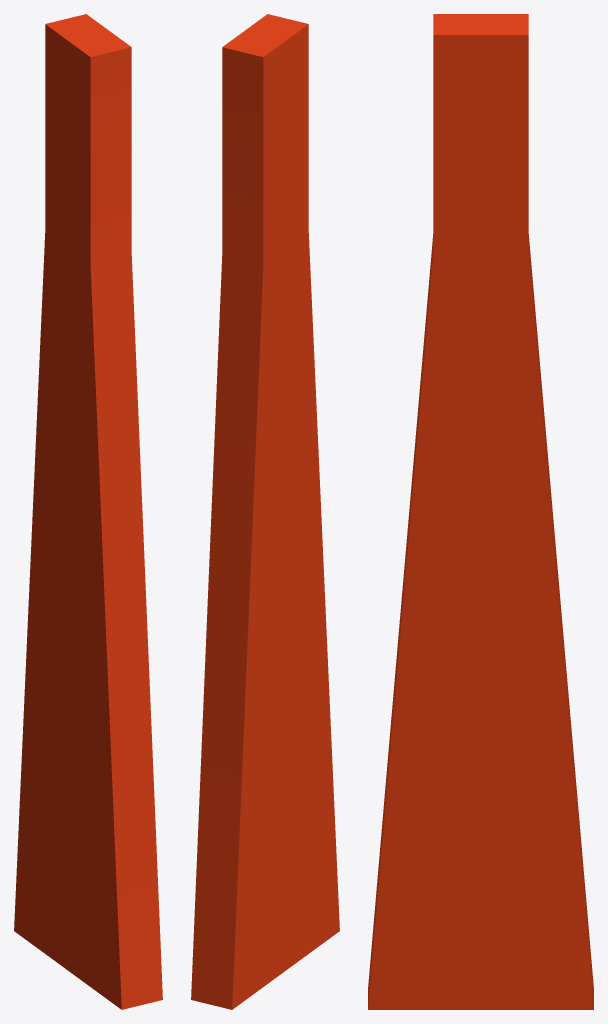
The model's file is SmallClockHand.fbx.
3 views of the same model, side by side, from view 1: azimuth 30°, elevation 25°; view 2: azimuth 150°, elevation 25°; view 3: azimuth 270°, elevation 25° (orthographic). The views are drawn at different scales.
Parts seen in each view (by area): view 1: SmallClockHand; view 2: SmallClockHand; view 3: SmallClockHand.
Part boxes in pixels (x1,y1,x2,y2): SmallClockHand: (14,14,162,1009); SmallClockHand: (191,14,339,1009); SmallClockHand: (368,14,593,1009).
Bounding box in the file's own units: 0.00572 × 0.1236 × 0.026.
